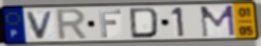1: (170, 6, 186, 39)
D: (128, 6, 161, 40)
F: (98, 9, 123, 39)
M: (198, 4, 237, 39)
R: (55, 7, 90, 42)
V: (25, 10, 56, 40)
